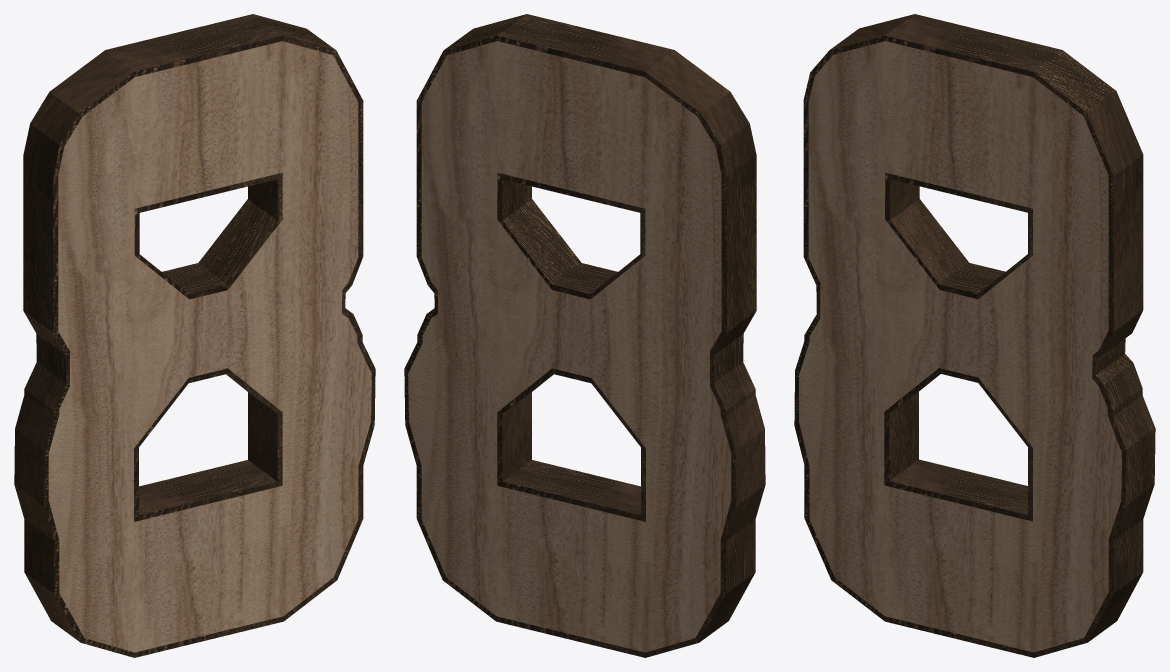
The picture shows the model from 3 angles, left to right: view 1: azimuth 30°, elevation 25°; view 2: azimuth 150°, elevation 25°; view 3: azimuth 330°, elevation 25°; orthographic projection.
Visible parts, largest first — view 1: 8, 8_outline; view 2: 8, 8_outline; view 3: 8, 8_outline.
Part boxes in pixels (bbox=[...]): 8: bbox=[48, 41, 371, 652]; 8_outline: bbox=[14, 14, 375, 657]; 8: bbox=[408, 41, 731, 652]; 8_outline: bbox=[404, 14, 765, 657]; 8: bbox=[799, 41, 1121, 652]; 8_outline: bbox=[794, 14, 1155, 657].
Size of the model in its own units: 64.49 by 109 by 10.
2 materials, 2 textured.
